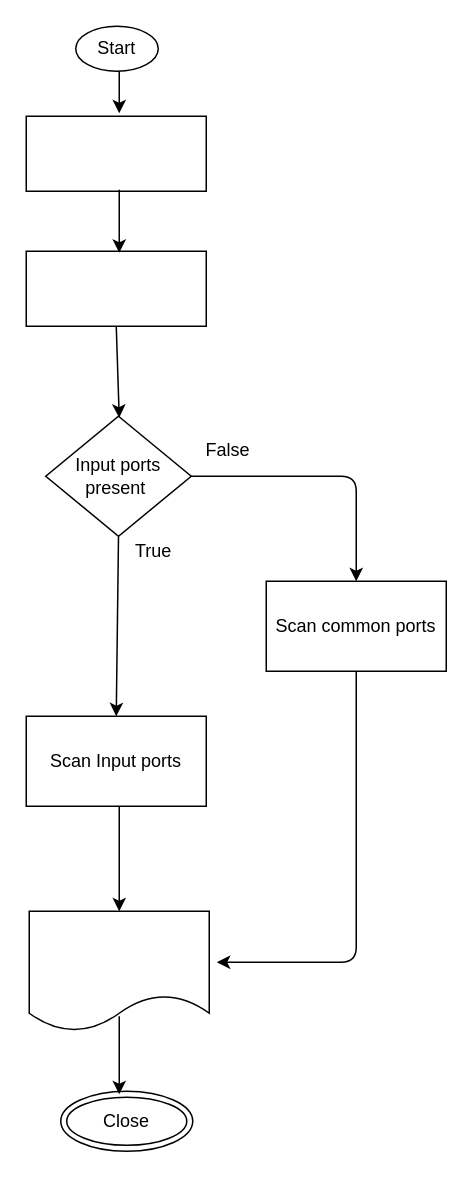
This 473x1178 diagram has some shape labels left out. Here are the shapes that lost their labels. From the top down, the box of each, then its label:
(25, 115, 206, 191): Clear Screen
(25, 250, 206, 326): Get host name and input ports
(28, 910, 209, 1031): Print Open Ports
